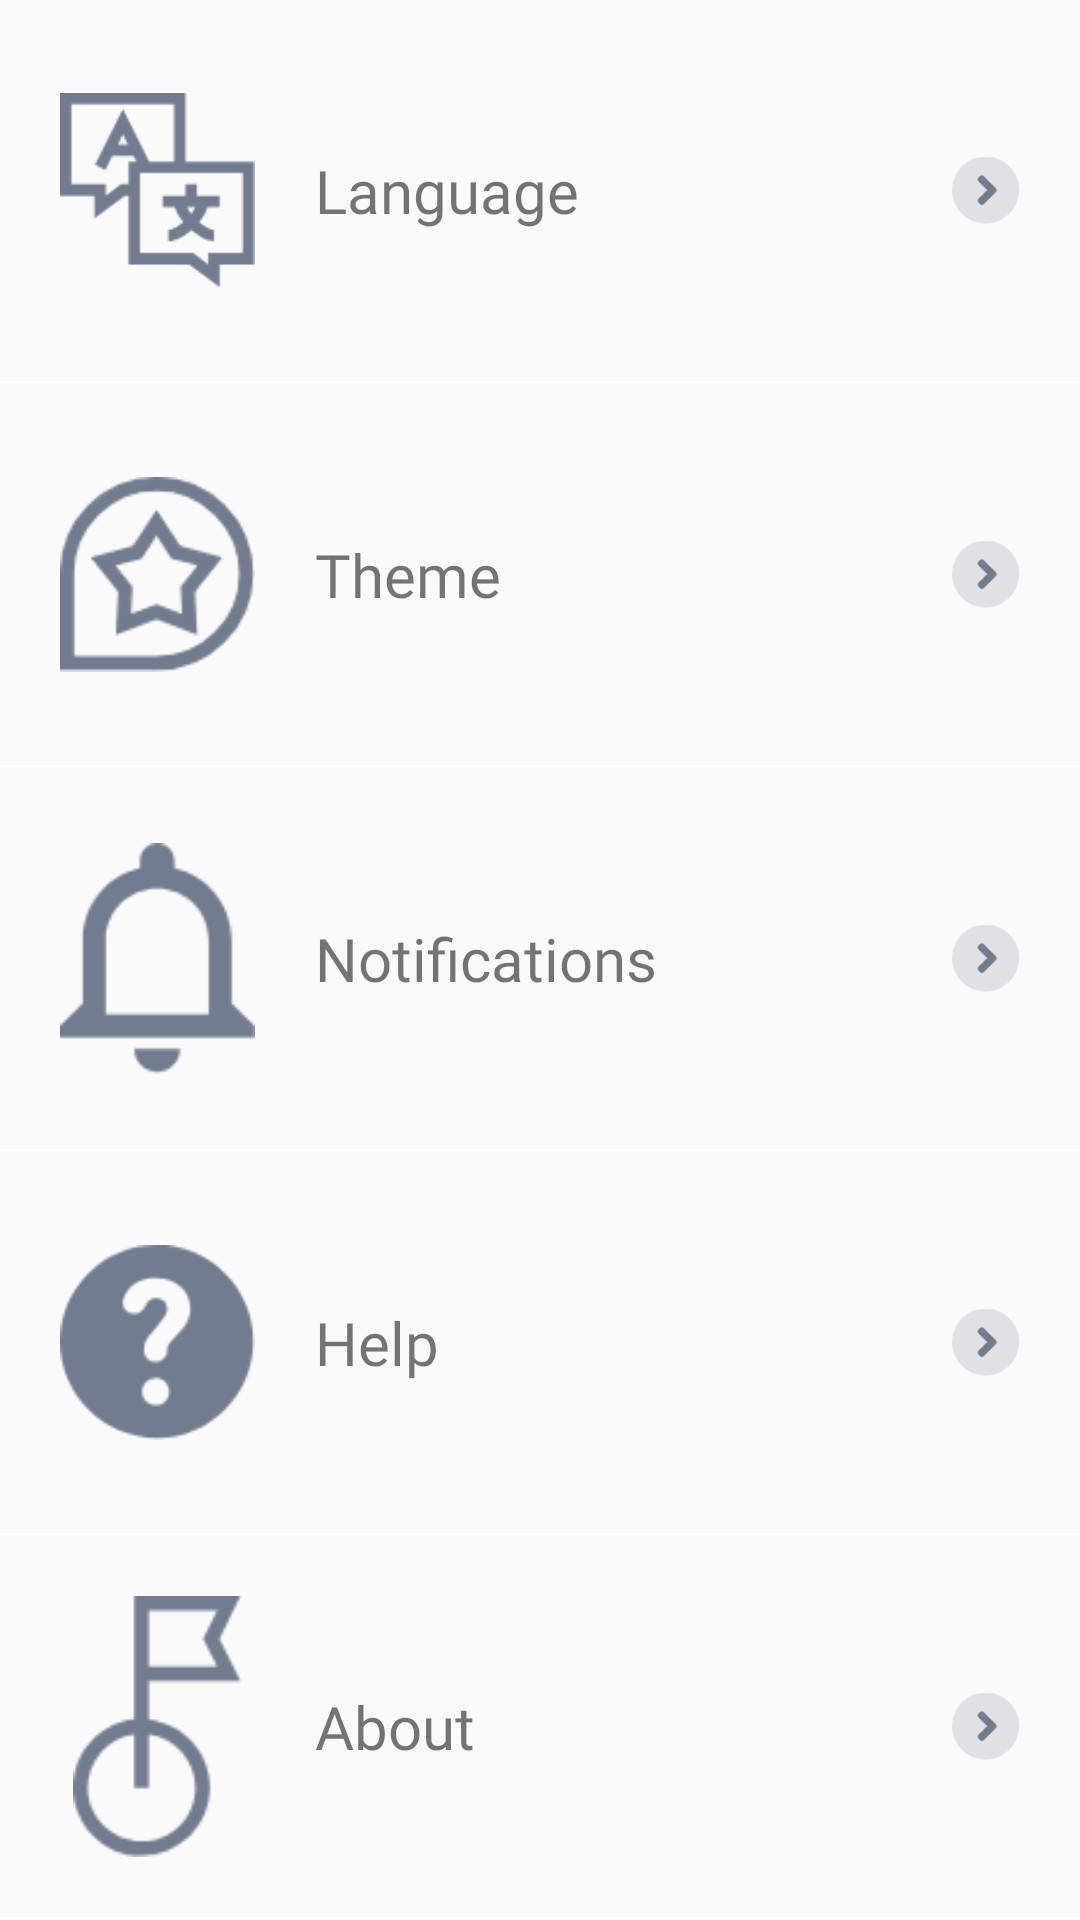

Where to tap for icons on this 1080×1920 app screen, as (x=x, y=y):
arrow: (x=985, y=190), (x=985, y=574), (x=985, y=958), (x=985, y=1342), (x=985, y=1726)
rate: (x=157, y=574)
